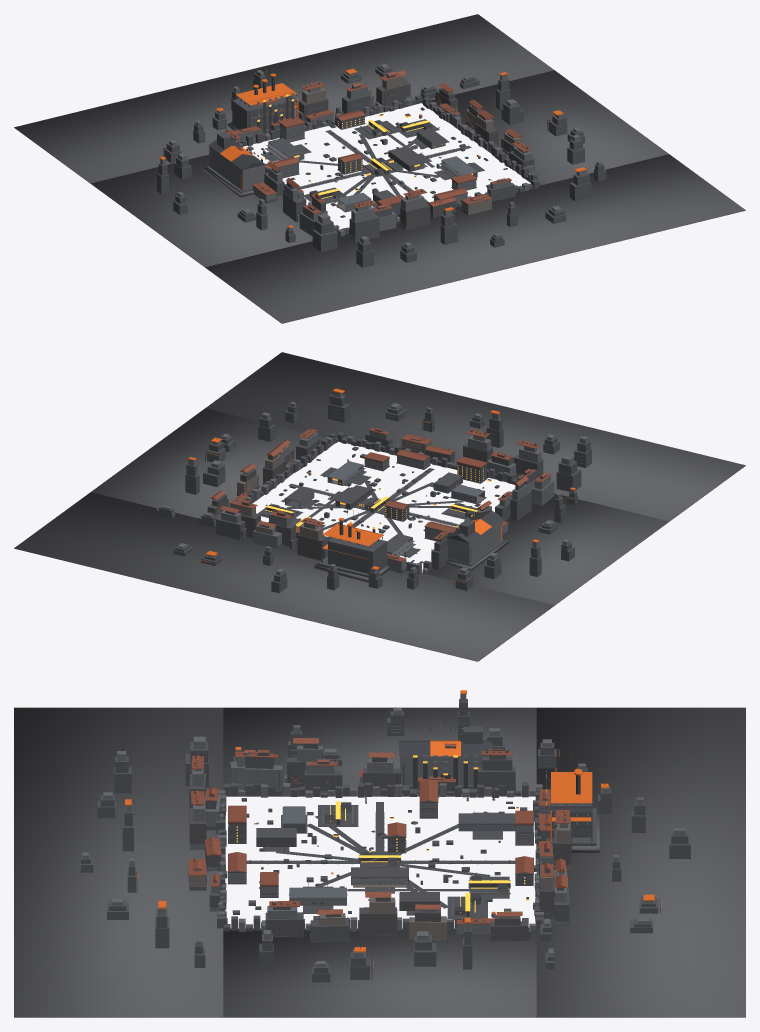
File: koushou-lod0.glb
3 renders of one model, top to bottom at view 1: azimuth 30°, elevation 25°; view 2: azimuth 150°, elevation 25°; view 3: azimuth 270°, elevation 25°, orthographic. The views are drawn at different scales.
Parts seen in each view (by area): view 1: HB_koushou_LOD0_terrain, HB_koushou_LOD0_wall_alt, HB_koushou_LOD0_wall, HB_koushou_LOD0_roof, HB_koushou_LOD0_wall_weathered, HB_koushou_LOD0_road, HB_koushou_LOD0_trim, HB_koushou_LOD0_wall_cool, HB_koushou_LOD0_wall_warm, HB_koushou_LOD0_LANDMARK_0_wall_alt, HB_koushou_LOD0_LANDMARK_1_wall, HB_koushou_LOD0_LANDMARK_0_accent (+4 smaller); view 2: HB_koushou_LOD0_terrain, HB_koushou_LOD0_wall_alt, HB_koushou_LOD0_wall, HB_koushou_LOD0_wall_weathered, HB_koushou_LOD0_roof, HB_koushou_LOD0_road, HB_koushou_LOD0_trim, HB_koushou_LOD0_wall_cool, HB_koushou_LOD0_LANDMARK_0_wall_alt, HB_koushou_LOD0_wall_warm, HB_koushou_LOD0_LANDMARK_1_wall, HB_koushou_LOD0_LANDMARK_0_accent (+3 smaller); view 3: HB_koushou_LOD0_terrain, HB_koushou_LOD0_wall_alt, HB_koushou_LOD0_wall, HB_koushou_LOD0_wall_weathered, HB_koushou_LOD0_roof, HB_koushou_LOD0_road, HB_koushou_LOD0_trim, HB_koushou_LOD0_wall_cool, HB_koushou_LOD0_wall_warm, HB_koushou_LOD0_LANDMARK_1_trim, HB_koushou_LOD0_LANDMARK_0_accent, HB_koushou_LOD0_LANDMARK_1_wall (+4 smaller).
Boxes of the visible parts, x1,y1,x2,y2 form: HB_koushou_LOD0_terrain: (14, 14, 745, 323); HB_koushou_LOD0_wall_alt: (157, 65, 606, 267); HB_koushou_LOD0_wall: (160, 64, 602, 248); HB_koushou_LOD0_roof: (224, 70, 531, 213); HB_koushou_LOD0_wall_weathered: (271, 84, 534, 229); HB_koushou_LOD0_road: (262, 118, 491, 212); HB_koushou_LOD0_trim: (163, 73, 555, 240); HB_koushou_LOD0_wall_cool: (268, 84, 533, 241); HB_koushou_LOD0_wall_warm: (277, 73, 521, 214); HB_koushou_LOD0_LANDMARK_0_wall_alt: (231, 97, 294, 133); HB_koushou_LOD0_LANDMARK_1_wall: (209, 146, 264, 190); HB_koushou_LOD0_LANDMARK_0_accent: (236, 69, 298, 118); HB_koushou_LOD0_terrain: (14, 352, 745, 661); HB_koushou_LOD0_wall_alt: (156, 394, 591, 593); HB_koushou_LOD0_wall: (161, 391, 588, 575); HB_koushou_LOD0_wall_weathered: (207, 438, 524, 572); HB_koushou_LOD0_roof: (211, 427, 551, 561); HB_koushou_LOD0_road: (258, 460, 486, 560); HB_koushou_LOD0_trim: (183, 419, 583, 591); HB_koushou_LOD0_wall_cool: (240, 432, 554, 554); HB_koushou_LOD0_LANDMARK_0_wall_alt: (317, 537, 387, 577); HB_koushou_LOD0_wall_warm: (216, 435, 486, 550); HB_koushou_LOD0_LANDMARK_1_wall: (447, 519, 502, 563); HB_koushou_LOD0_LANDMARK_0_accent: (322, 510, 383, 559); HB_koushou_LOD0_terrain: (14, 707, 745, 1017); HB_koushou_LOD0_wall_alt: (81, 699, 690, 982); HB_koushou_LOD0_wall: (82, 694, 685, 967); HB_koushou_LOD0_wall_weathered: (189, 743, 571, 940); HB_koushou_LOD0_roof: (188, 738, 569, 923); HB_koushou_LOD0_road: (246, 799, 515, 920); HB_koushou_LOD0_trim: (122, 707, 660, 980); HB_koushou_LOD0_wall_cool: (190, 745, 568, 934); HB_koushou_LOD0_wall_warm: (188, 804, 570, 940); HB_koushou_LOD0_LANDMARK_1_trim: (399, 723, 492, 788); HB_koushou_LOD0_LANDMARK_0_accent: (550, 754, 592, 841); HB_koushou_LOD0_LANDMARK_1_wall: (400, 756, 488, 784).
Size of the model in its own units: 734 by 91.07 by 734.
14 materials, 12 textured.
